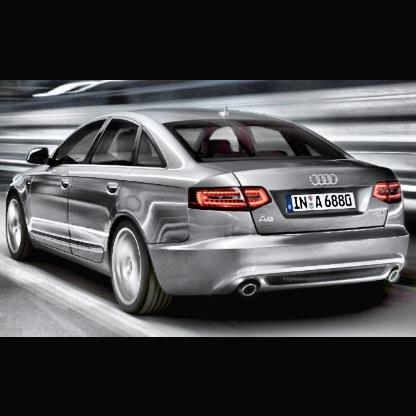Audi S6 Sedan 2011: (5, 103, 416, 320)
